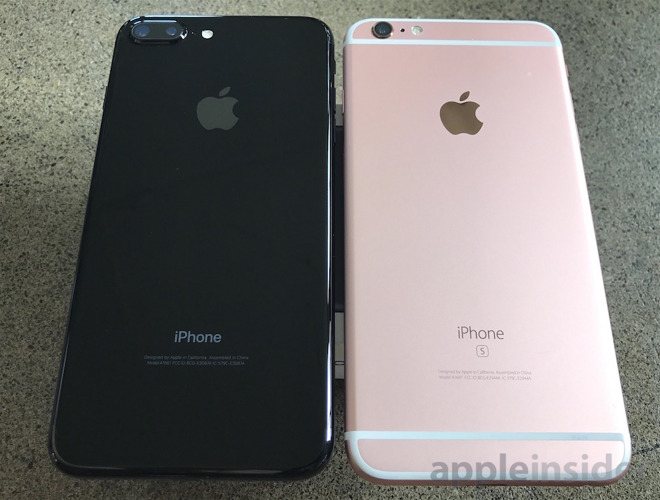apple: (175, 71, 260, 135), (411, 77, 500, 137)
